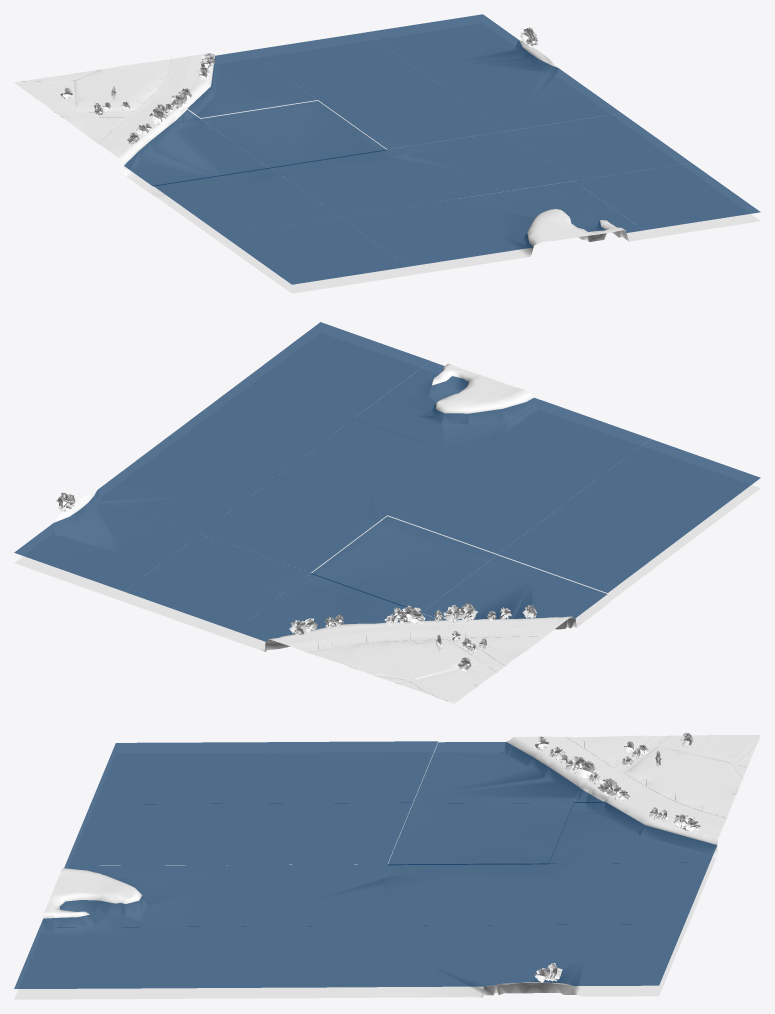
3 views of the same model, one above another, from view 1: azimuth 30°, elevation 25°; view 2: azimuth 150°, elevation 25°; view 3: azimuth 270°, elevation 25° (orthographic). The views are drawn at different scales.
Visible parts, largest first — view 1: geopipeinodehV7K7i7n, geopipeinodeYU34nXPB, geopipeinodeUdTL4SHF; view 2: geopipeinodehV7K7i7n, geopipeinodeYU34nXPB, geopipeinodeUdTL4SHF; view 3: geopipeinodehV7K7i7n, geopipeinodeYU34nXPB, geopipeinodeUdTL4SHF.
Part boxes in pixels (bbox=[...]): geopipeinodehV7K7i7n: bbox=[14, 23, 760, 293]; geopipeinodeYU34nXPB: bbox=[124, 14, 760, 284]; geopipeinodeUdTL4SHF: bbox=[55, 54, 202, 156]; geopipeinodehV7K7i7n: bbox=[14, 332, 760, 703]; geopipeinodeYU34nXPB: bbox=[14, 322, 760, 641]; geopipeinodeUdTL4SHF: bbox=[277, 619, 567, 682]; geopipeinodehV7K7i7n: bbox=[14, 735, 760, 999]; geopipeinodeYU34nXPB: bbox=[14, 741, 716, 988]; geopipeinodeUdTL4SHF: bbox=[523, 736, 733, 834].
Bounding box in the file's own units: 507 × 637 × 32.46.
